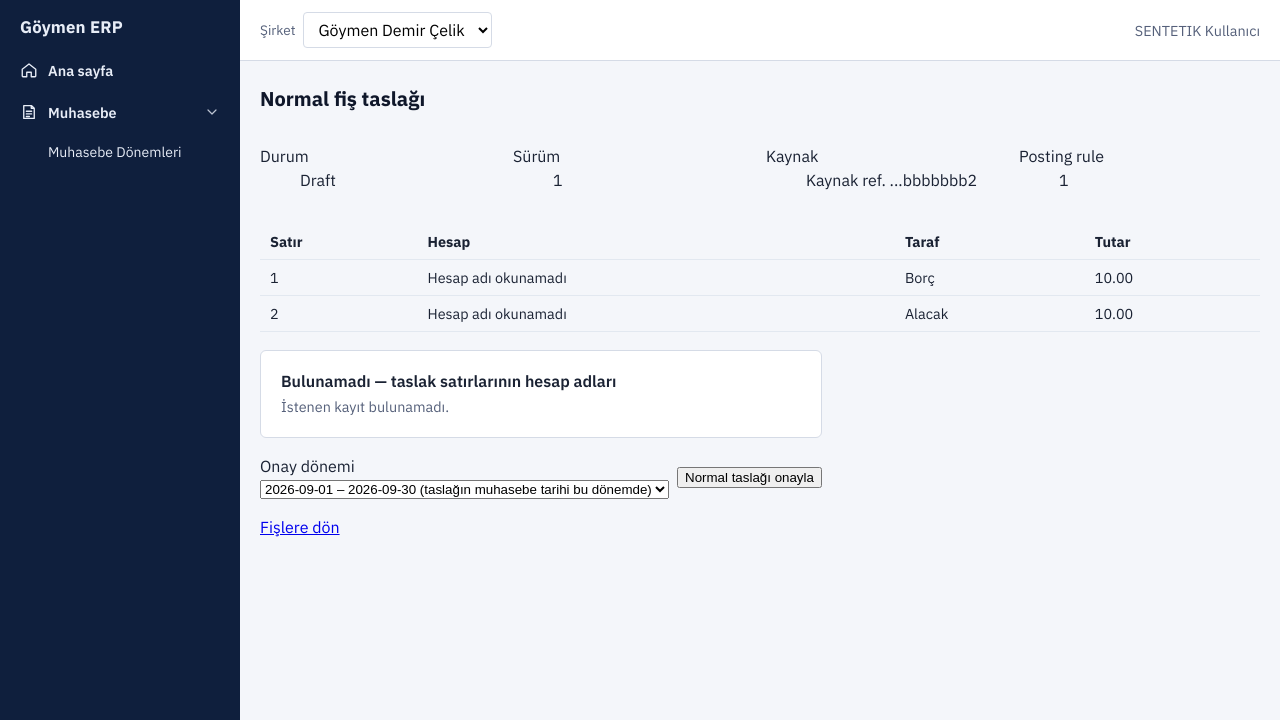
Test: normal journal command security and company fences › reports an approval 403 and suppresses the approval capability
Expected: the dropdown labelled "Onay dönemi" shows "2026-09-01 – 2026-09-30 (taslağın muhasebe tarihi bu dönemde)", [260,480,669,499]
What coordinates should you click on to do the following:
click the button "Normal taslağı onayla"
I would click on:
 (749, 478)
Its box is [677,467,822,488].
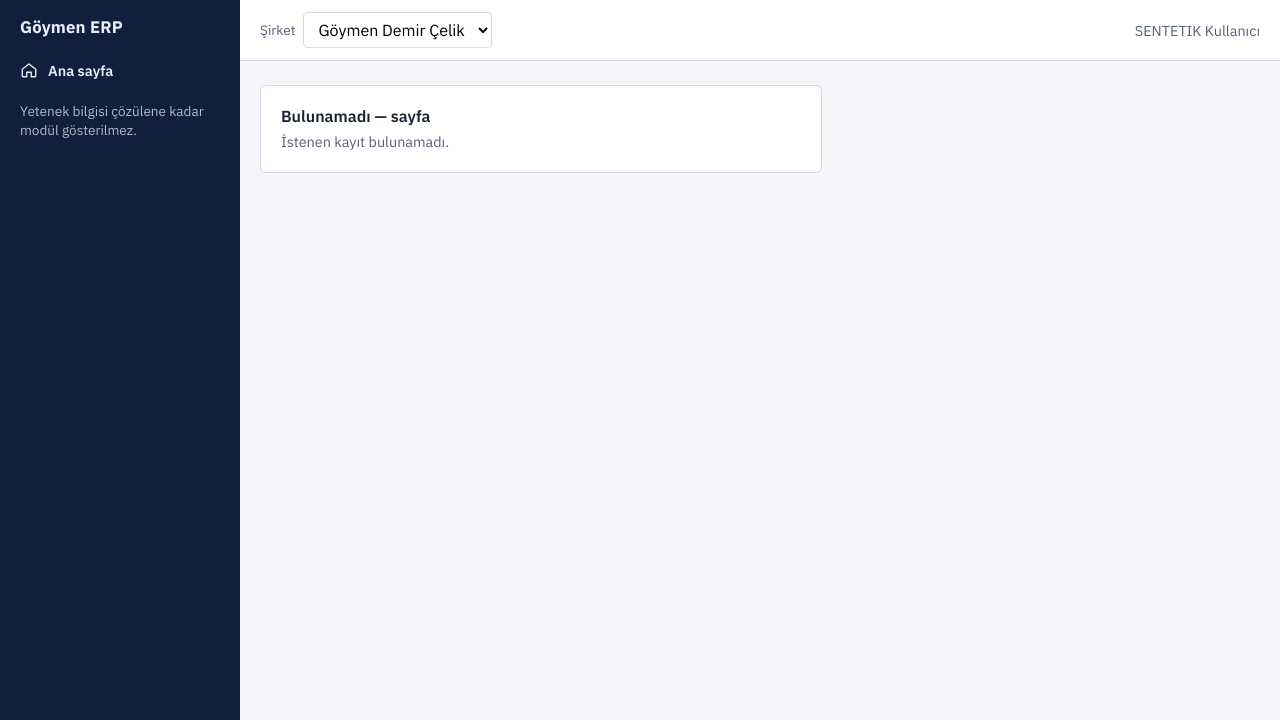
Expected: the button "onayla" is gone
